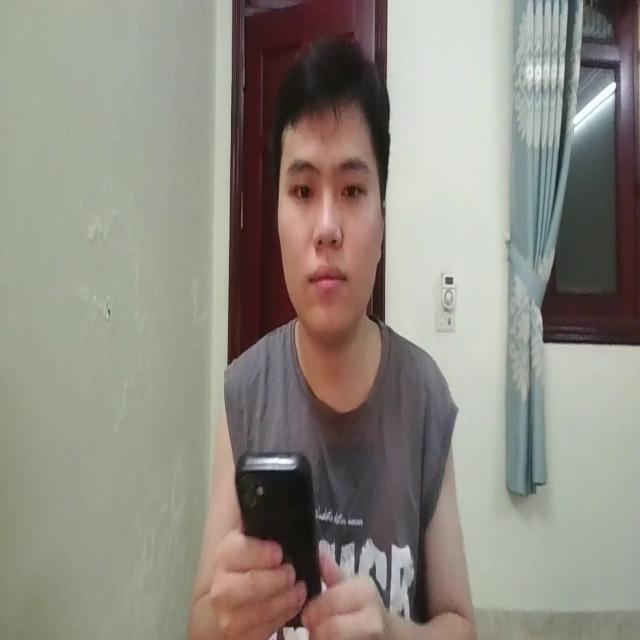phone: (236, 439, 323, 620)
student: (196, 37, 474, 640)
